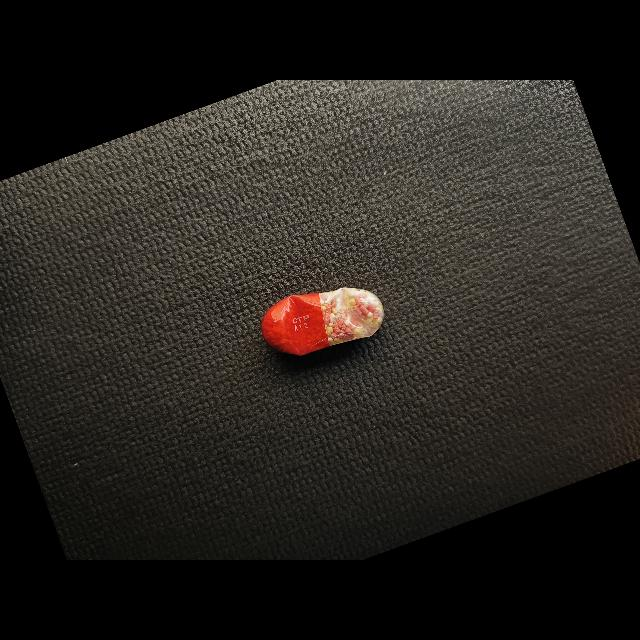Defective Capsule: (261, 287, 384, 356)
